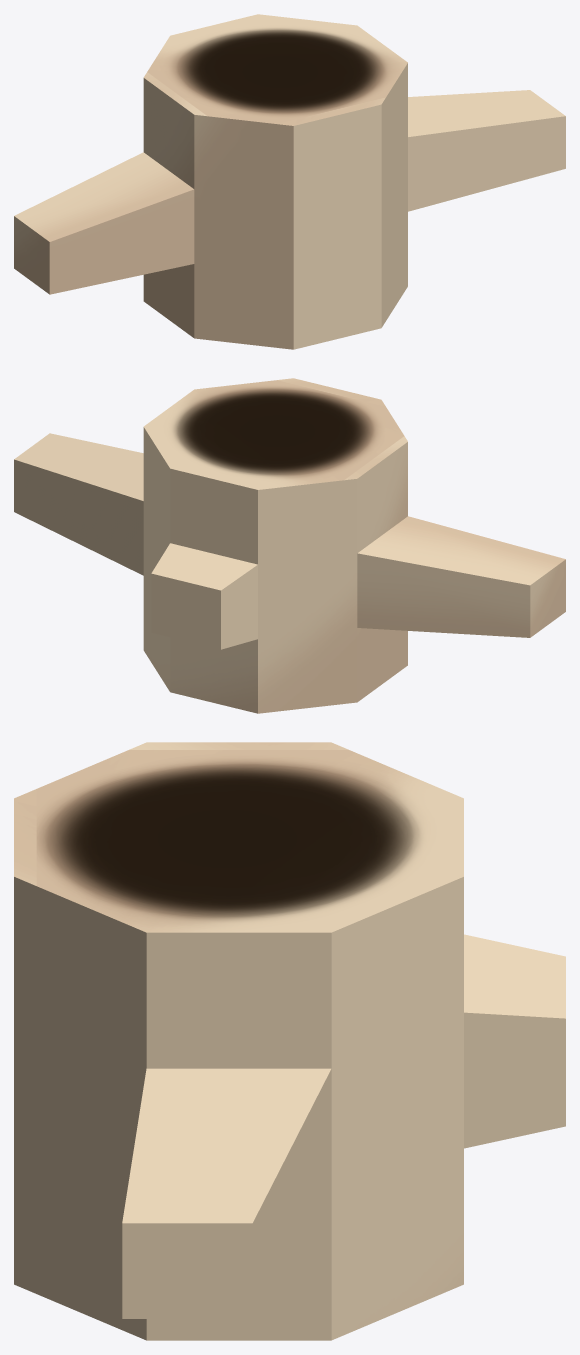
3 renders of one model, top to bottom at view 1: azimuth 30°, elevation 25°; view 2: azimuth 150°, elevation 25°; view 3: azimuth 270°, elevation 25°, orthographic. The views are drawn at different scales.
Visible parts, largest first — view 1: Vertebrae3; view 2: Vertebrae3; view 3: Vertebrae3.
Part boxes in pixels (<box>): Vertebrae3: <box>14,14,565,349</box>; Vertebrae3: <box>14,378,565,713</box>; Vertebrae3: <box>14,742,565,1340</box>.
Bounding box in the file's own units: 146 × 60.39 × 74.07.
